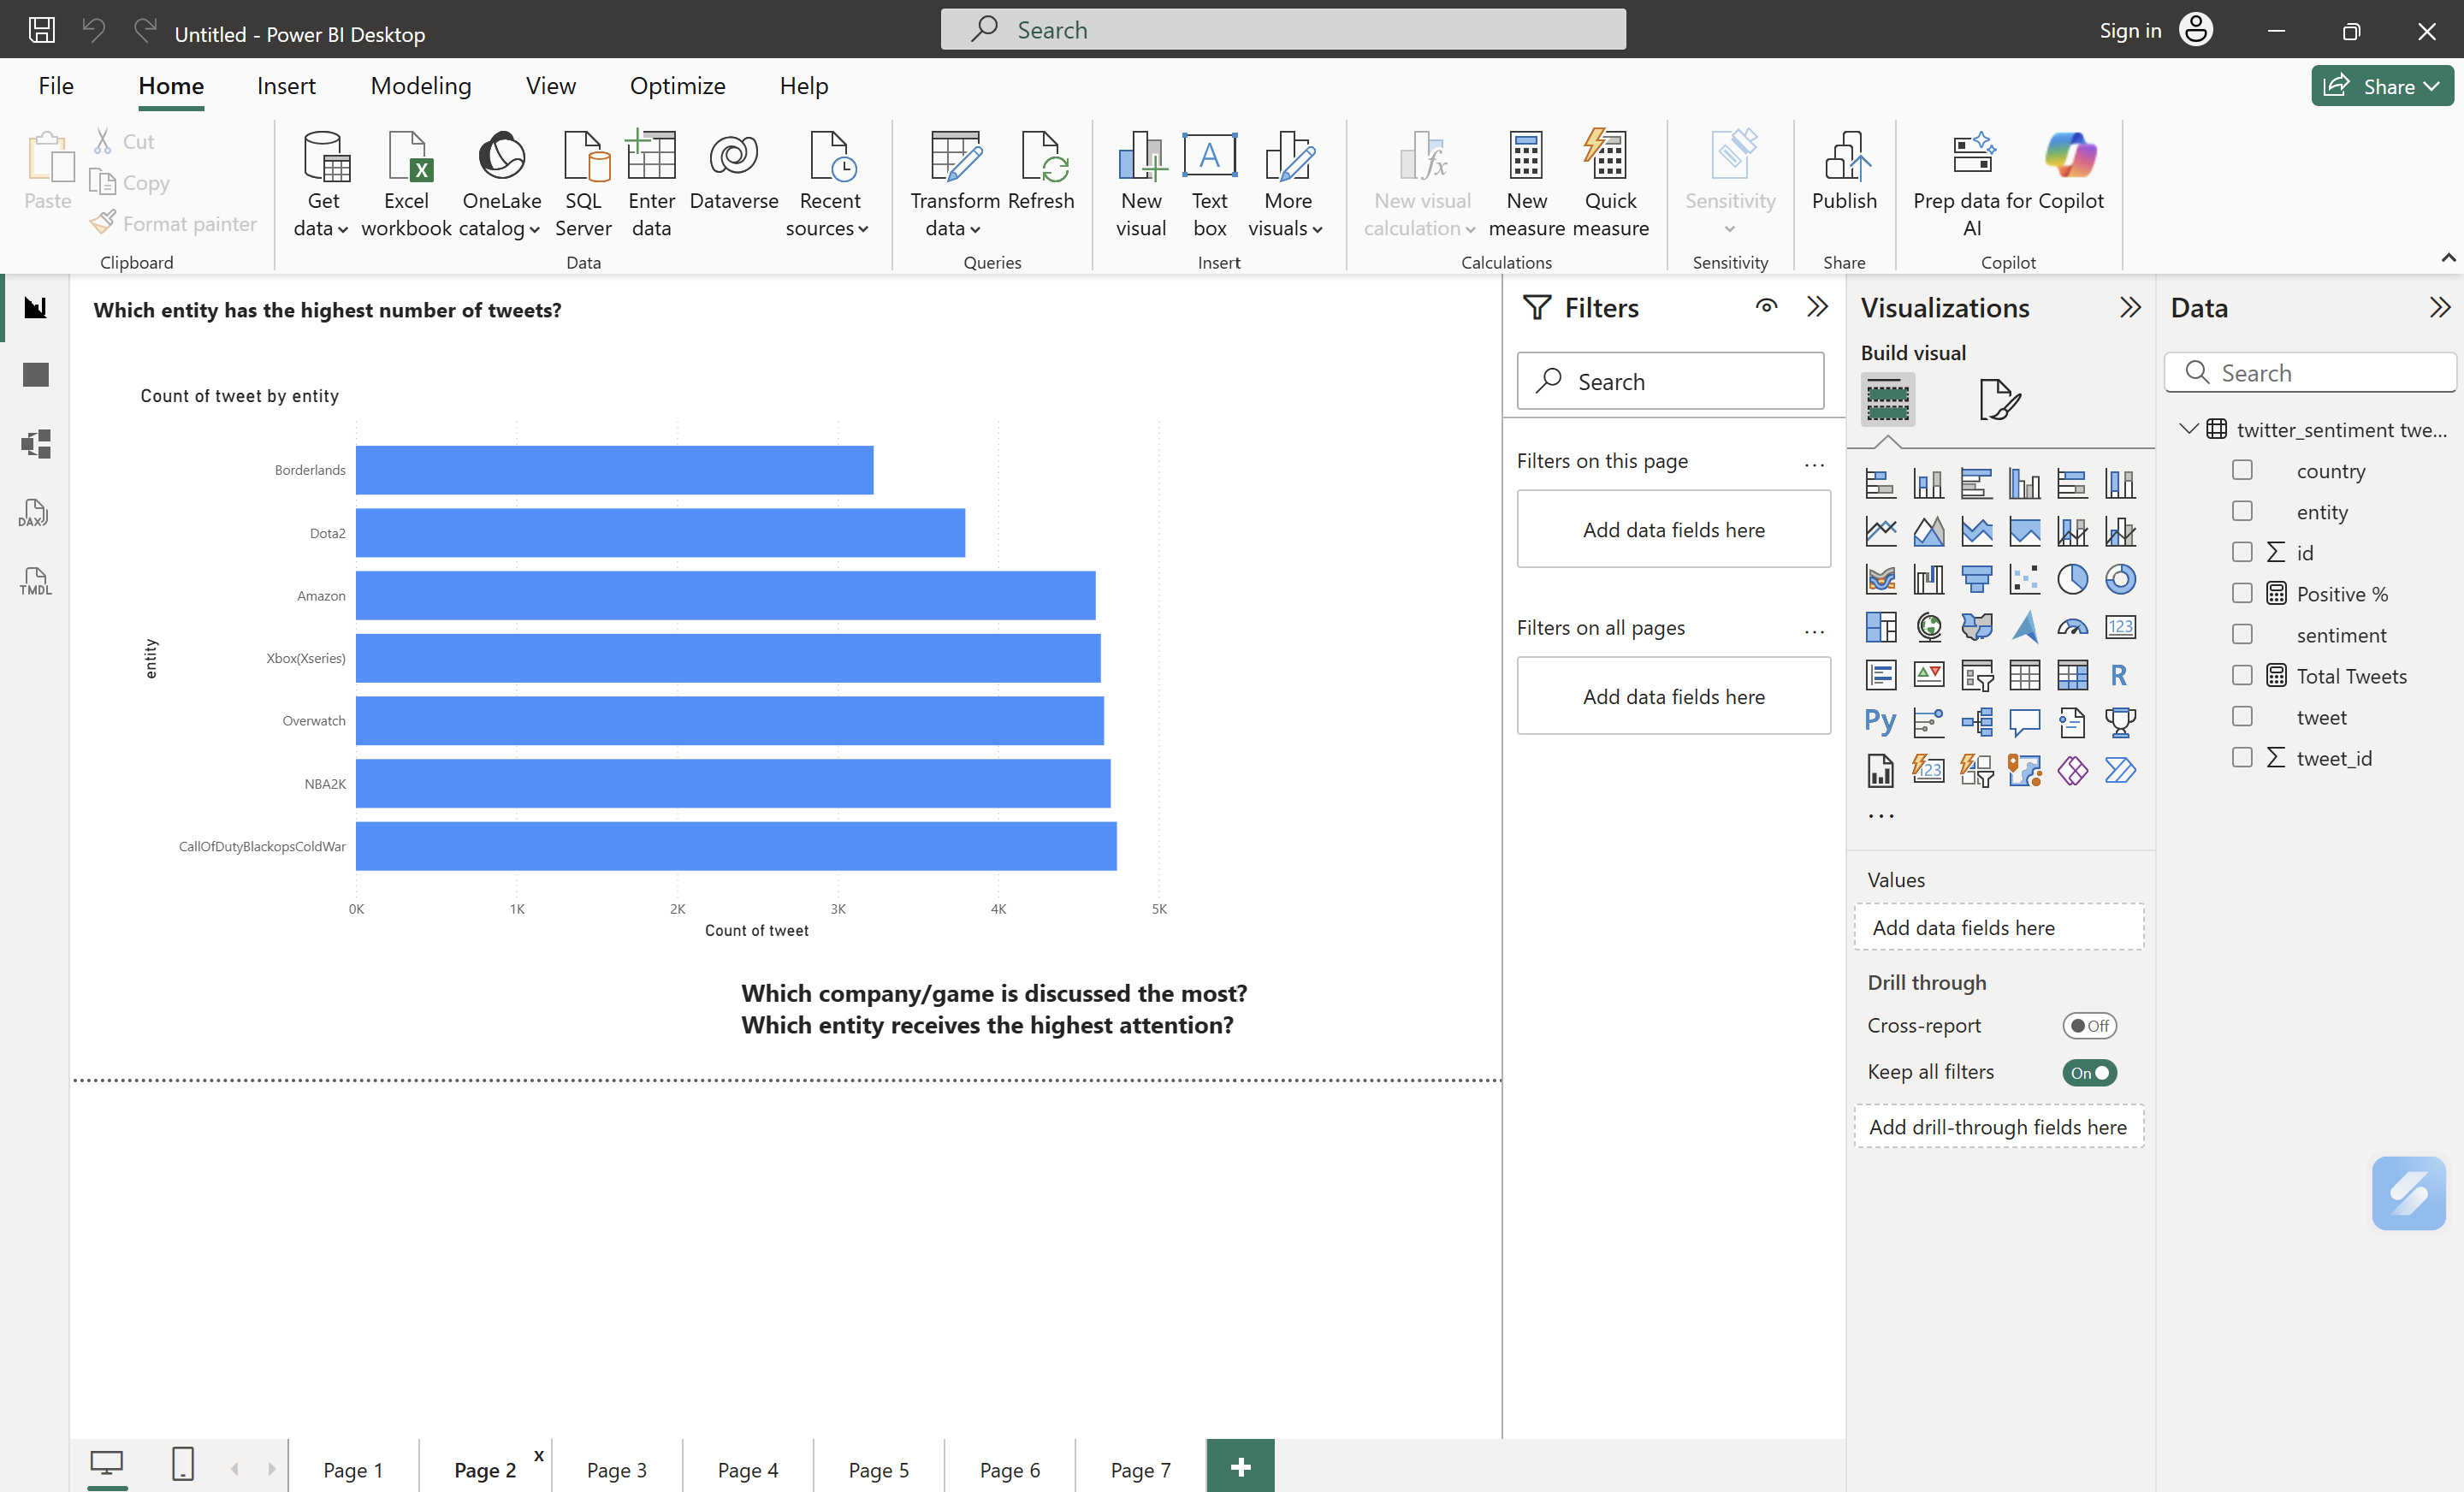

What the dashboard file says about the page in this screenshot:
{"tool":"powerbi","page":{"name":"Page 2","canvas":[1280,720],"ordinal":1},"visuals":[{"type":"barChart","fields":{"Category":["twitter_sentiment tweets.entity"],"Y":["CountNonNull(twitter_sentiment tweets.tweet)"]},"box":[58.2,99.5,927.8,500.7],"z":0},{"type":"textbox","box":[595.6,623.2,558.9,96.5],"z":1000},{"type":"textbox","box":[12.2,13.8,500.7,62.8],"z":2000}]}

Visuals, with their boxes on the page's 1280x720 design canvas (x1, y1, x2, y2). These are canvas units, not pixel positions in the 2464x1492 screenshot, which may show the page scaled, cropped or inside an application window:
barChart - twitter_sentiment tweets.entity x CountNonNull(twitter_sentiment tweets.tweet): region(58, 100, 986, 600)
textbox: region(596, 623, 1154, 720)
textbox: region(12, 14, 513, 77)
